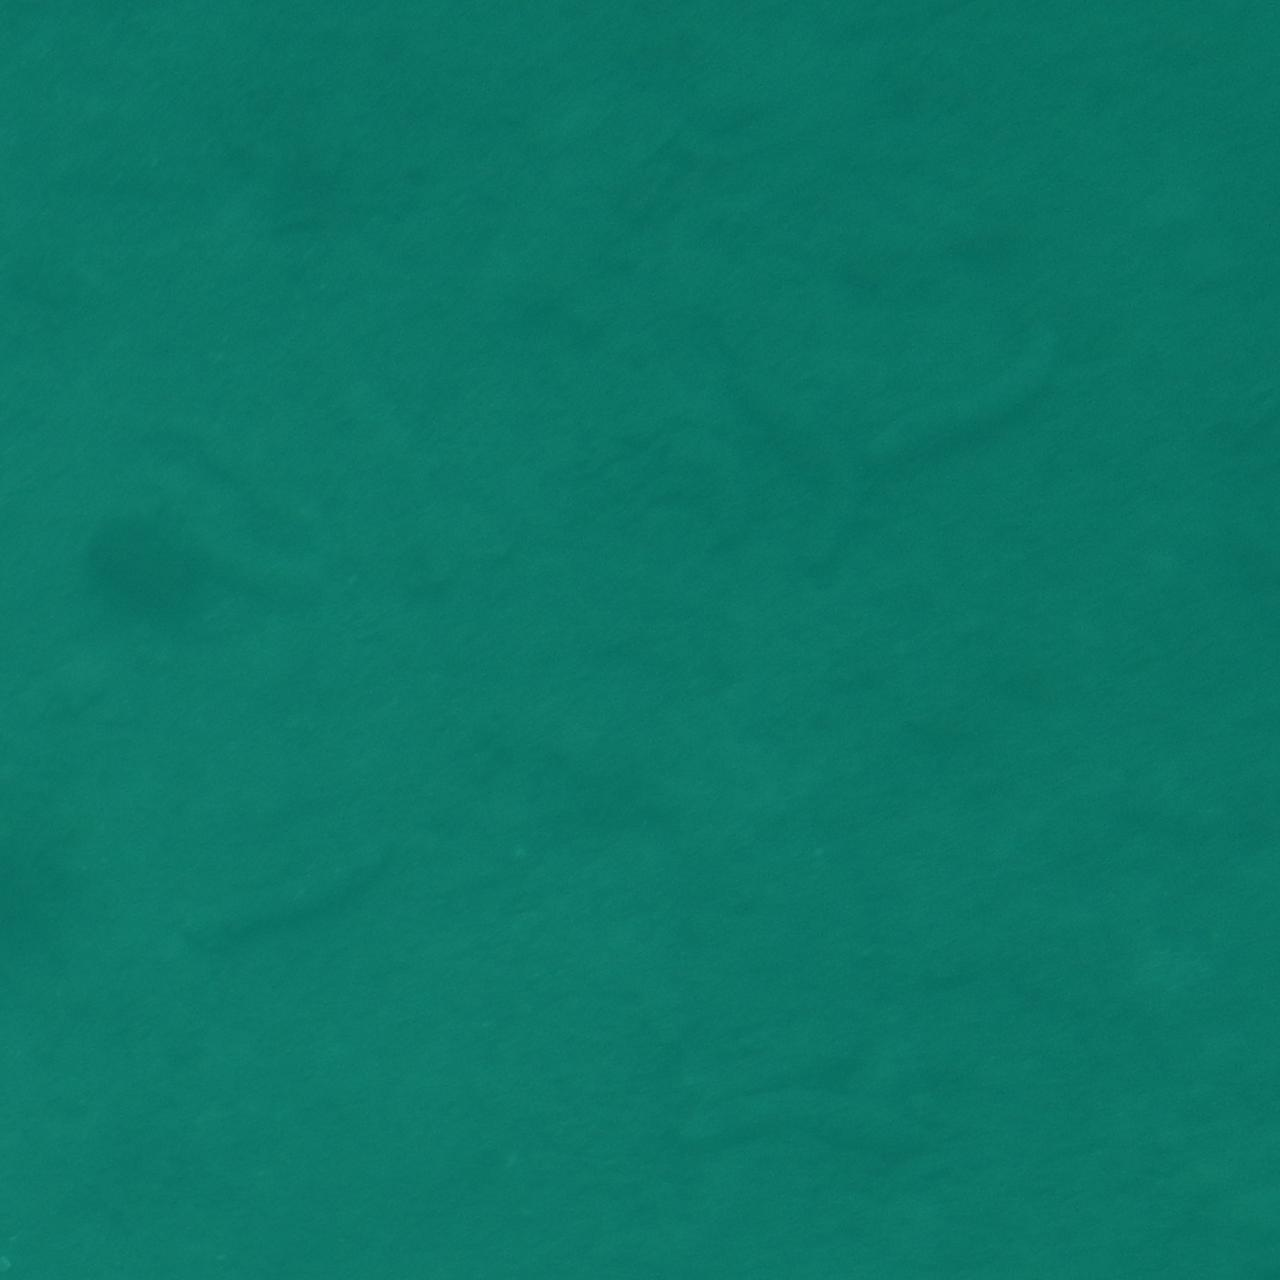Holothuria tubulosa: (872, 267, 1108, 497), (143, 813, 440, 982)
